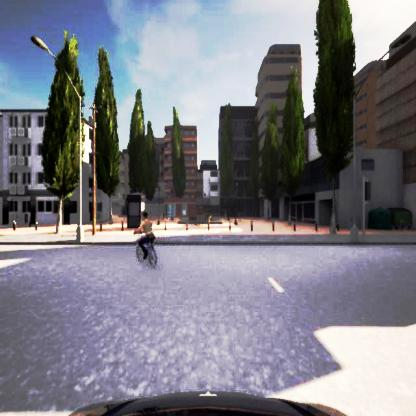bike: (132, 212, 159, 267)
